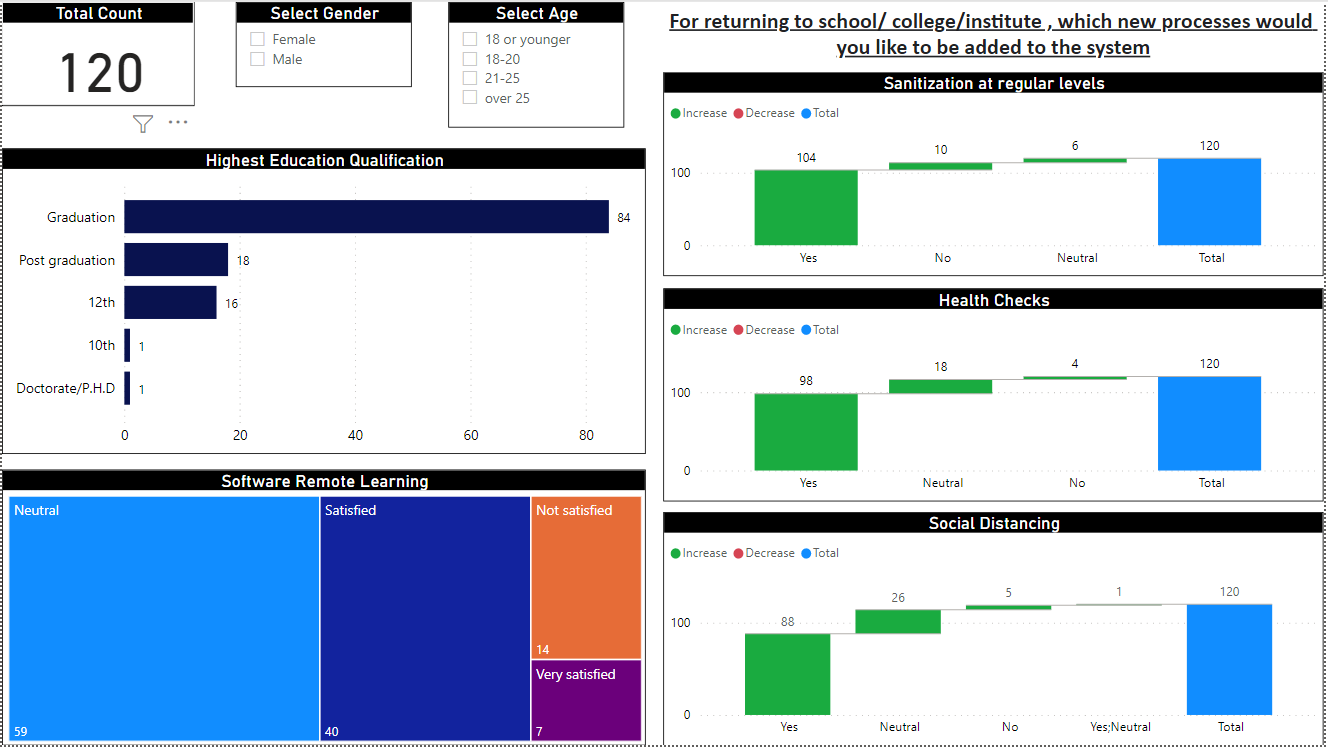

Layout of this report page (visuals, bound fields, positions):
{"tool":"powerbi","page":{"name":"New Processes","canvas":[1280,720],"ordinal":0},"visuals":[{"type":"card","title":"Total Count","fields":{"Values":["CountNonNull(Return To Education Institutes.Random number)"]},"box":[0,0,186.1,101],"z":0},{"type":"waterfallChart","title":"Sanitization at regular levels","fields":{"Category":["Return To Education Institutes.For returning to school/ college/institute , which new processes would you like to be add"],"Y":["CountNonNull(Return To Education Institutes.Random number)"]},"box":[640.6,67.8,639.2,197.7],"z":1000},{"type":"waterfallChart","title":"Health Checks","fields":{"Category":["Return To Education Institutes.For returning to school/ college/institute , which new processes would you like to be add"],"Y":["CountNonNull(Return To Education Institutes.Random number)"]},"box":[640.6,277,639.2,206.3],"z":2000},{"type":"waterfallChart","title":"Social Distancing","fields":{"Category":["Return To Education Institutes.For returning to school/ college/institute , which new processes would you like to be add"],"Y":["CountNonNull(Return To Education Institutes.Random number)"]},"box":[640.6,493.5,639.2,226.5],"z":3000},{"type":"textbox","box":[640.6,0,639.2,67.8],"z":4000},{"type":"slicer","title":"Select Gender","fields":{"Values":["Return To Education Institutes.Gender"]},"box":[226.5,0,170.3,82.2],"z":5000},{"type":"slicer","title":"Select Age","fields":{"Values":["Return To Education Institutes.Age"]},"box":[431.4,0,170.3,121.2],"z":6000},{"type":"clusteredBarChart","title":"Highest Education Qualification","fields":{"Category":["Return To Education Institutes.Highest education"],"Y":["CountNonNull(Return To Education Institutes.Random number)"]},"box":[0,141.4,623.3,295.8],"z":7000},{"type":"treemap","title":"Software Remote Learning","fields":{"Group":["Return To Education Institutes.SoftwareRemoteLearning"],"Values":["CountNonNull(Return To Education Institutes.Random number)"]},"box":[0,453.1,623.3,266.9],"z":8000}]}

Visuals, with their boxes in screenshot pixels (x1, y1, x2, y2), scaled from the page's 1280x720 canvas onto the 1328x749 screenshot:
"Total Count" card: 0 0 193 105
"Sanitization at regular levels" waterfallChart: 665 71 1327 276
"Health Checks" waterfallChart: 665 288 1327 503
"Social Distancing" waterfallChart: 665 513 1327 748
textbox: 665 0 1327 71
"Select Gender" slicer: 235 0 412 86
"Select Age" slicer: 448 0 624 126
"Highest Education Qualification" clusteredBarChart: 0 147 647 455
"Software Remote Learning" treemap: 0 471 647 748
